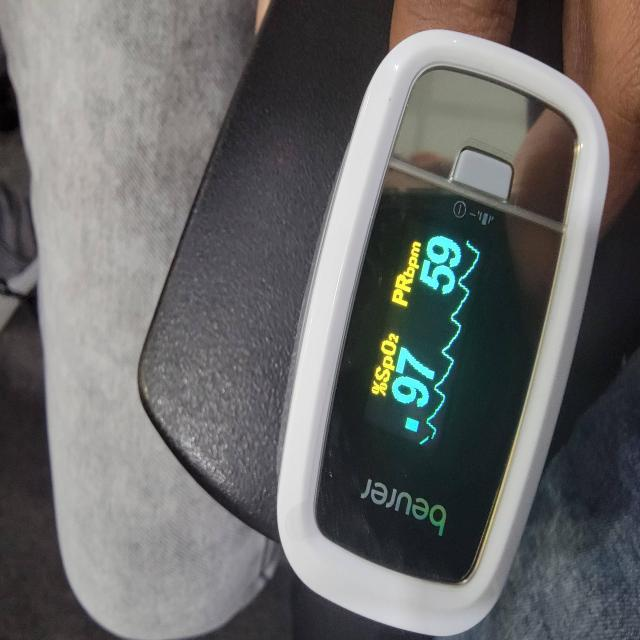spo2: (275, 29, 611, 640)
